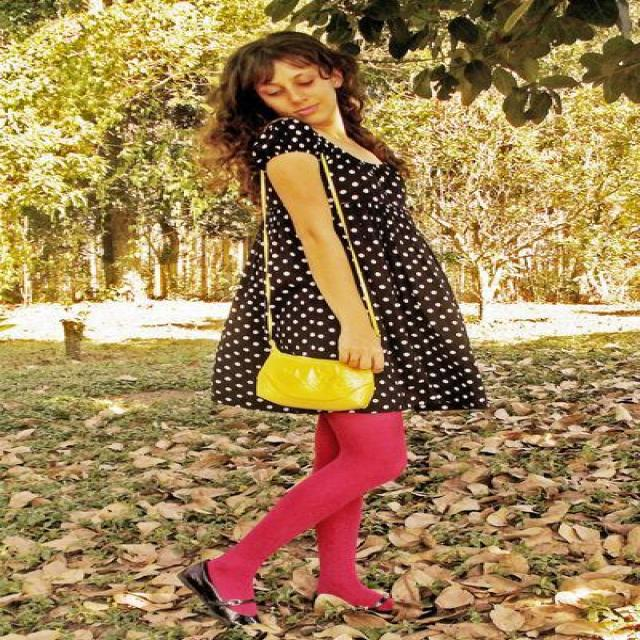bag: (256, 346, 374, 412)
dress: (200, 132, 496, 413)
shoe: (155, 545, 261, 627)
